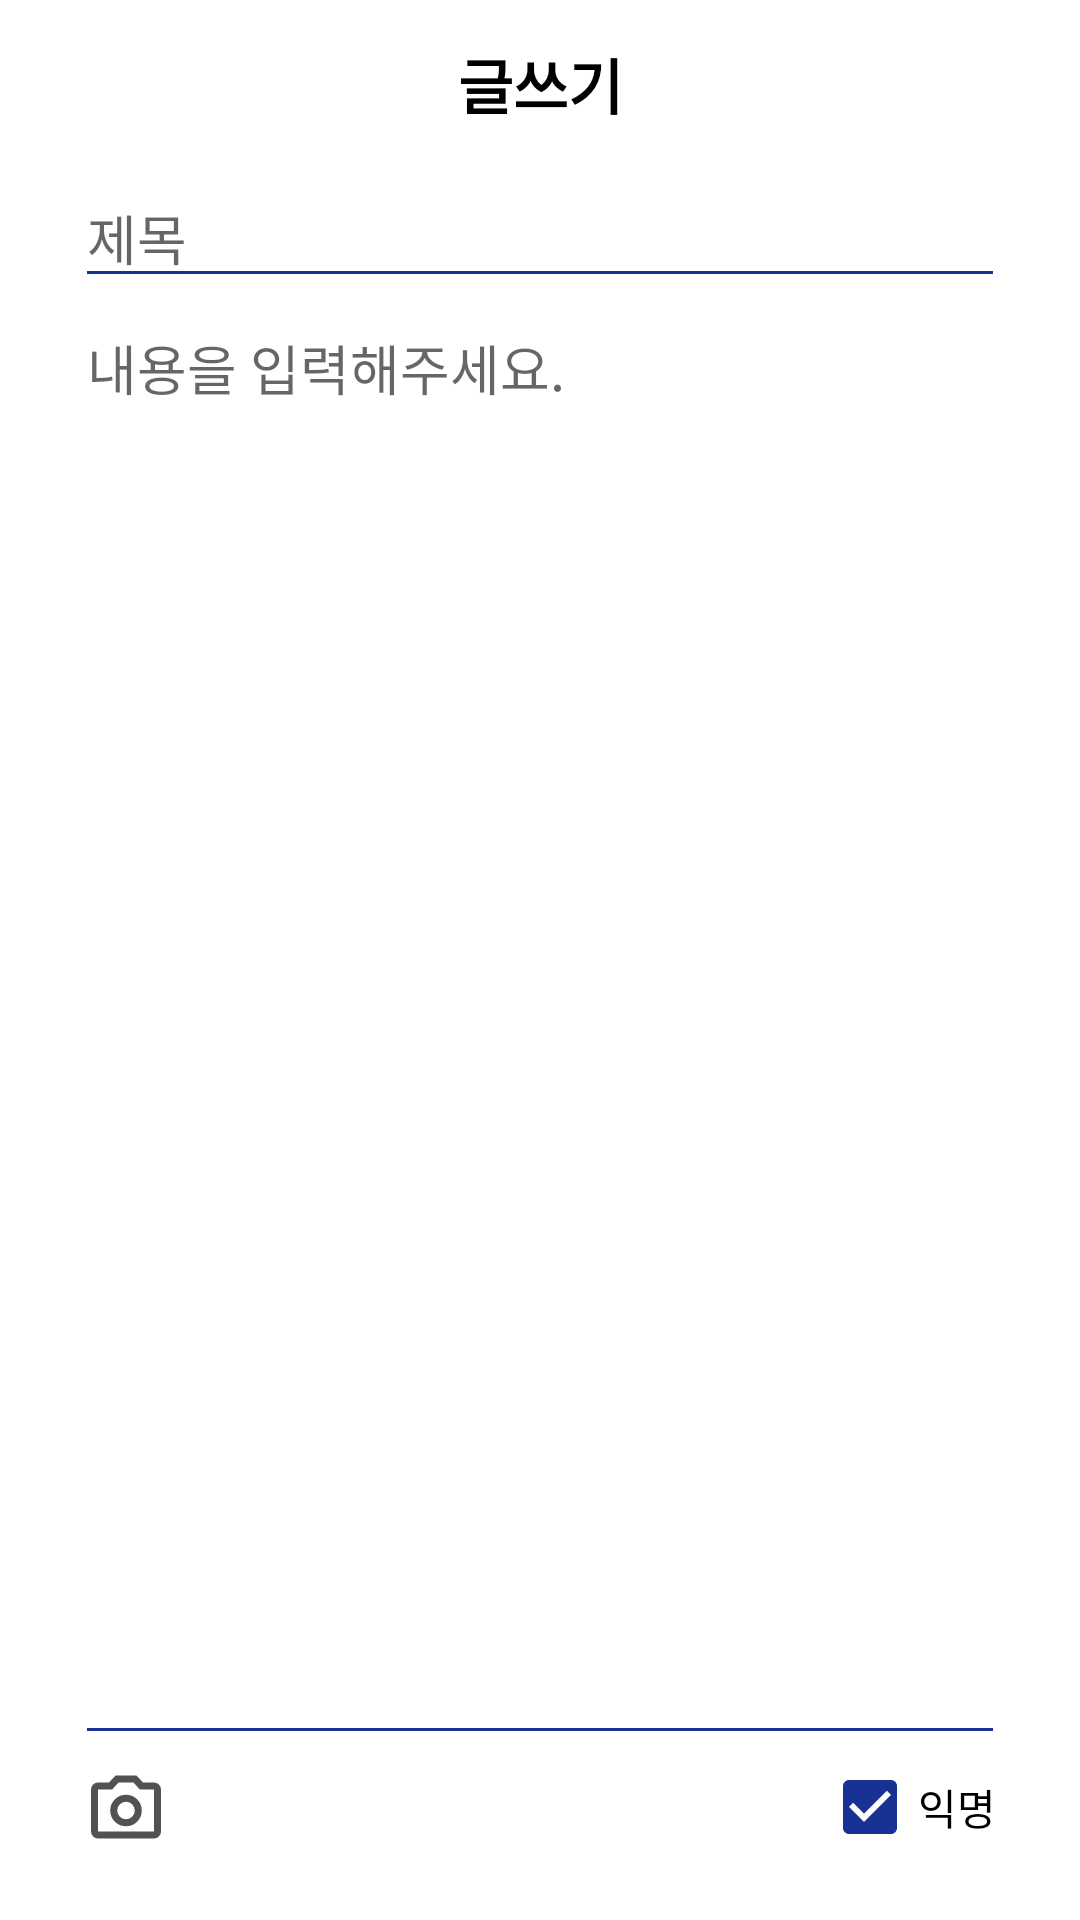

Point at icon controls on the screen. Image size 1080 x 1920, points as [x,y].
camera: [126,1807]
